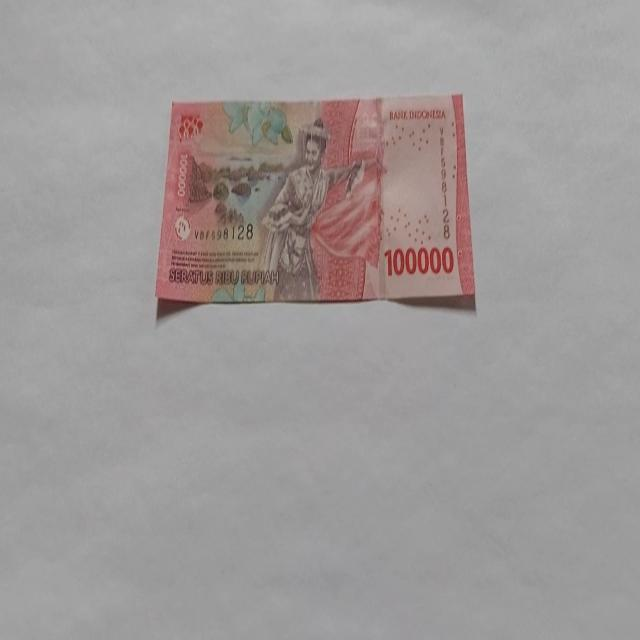seratus ribu rupiah: (154, 94, 476, 308), (257, 116, 365, 302)
